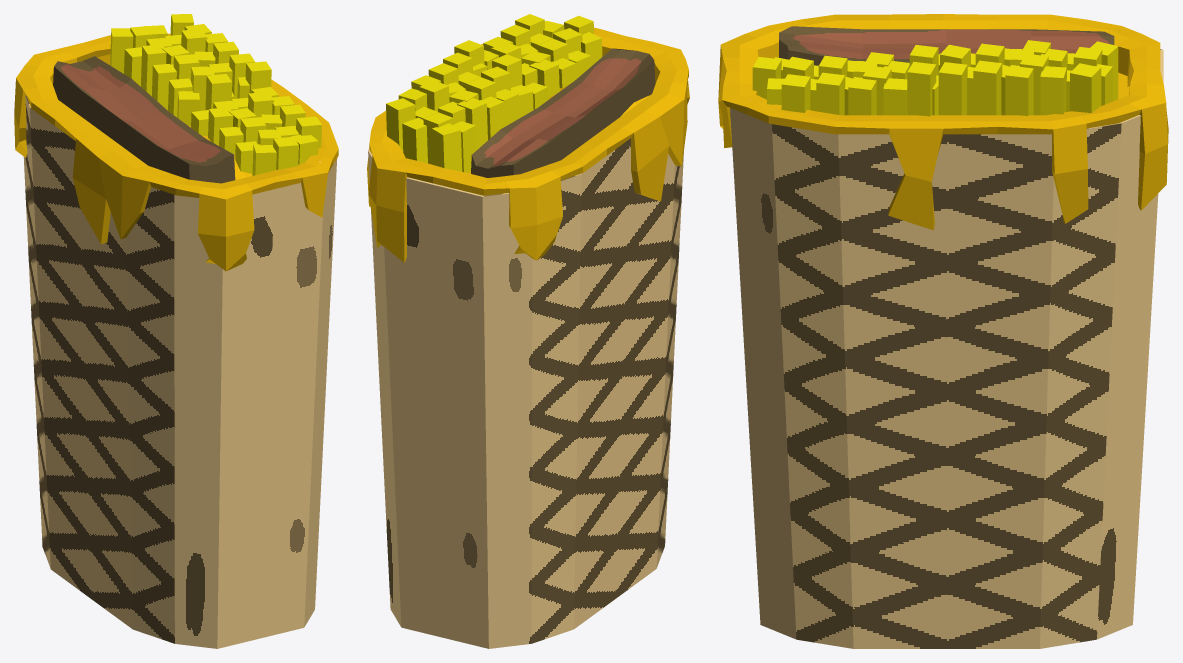
File: Tacos.glb
The picture shows the model from 3 angles, left to right: view 1: azimuth 30°, elevation 25°; view 2: azimuth 150°, elevation 25°; view 3: azimuth 270°, elevation 25°; orthographic projection. The views are drawn at different scales.
Parts seen in each view (by area): view 1: TacosWrap, Sauce, Fries, Steak; view 2: TacosWrap, Sauce, Fries, Steak; view 3: TacosWrap, Sauce, Fries, Steak.
Boxes of the visible parts, bbox=[...] form: TacosWrap: bbox=[23, 54, 337, 648]; Sauce: bbox=[14, 33, 338, 271]; Fries: bbox=[110, 14, 321, 175]; Steak: bbox=[53, 56, 235, 183]; TacosWrap: bbox=[368, 81, 687, 648]; Sauce: bbox=[367, 27, 689, 262]; Fries: bbox=[386, 14, 602, 172]; Steak: bbox=[471, 48, 655, 177]; TacosWrap: bbox=[730, 49, 1163, 648]; Sauce: bbox=[718, 14, 1168, 230]; Fries: bbox=[752, 40, 1118, 116]; Steak: bbox=[779, 26, 1114, 65].
Bounding box in the file's own units: 1.01 × 2.37 × 1.61.
3 materials, 3 textured.
